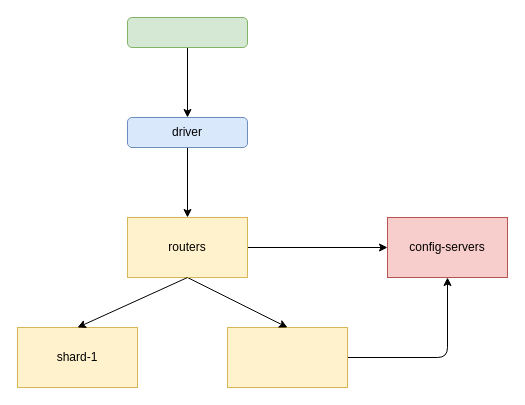
The diagram is 525 pixels wide and 405 high, and some of its shapes have lost their labels. The shapes that lost their labels are listed below. From the top down, each one's centre as x and y in pixels, then its label:
At (187,32): "app".
At (287,357): "shard-2".
